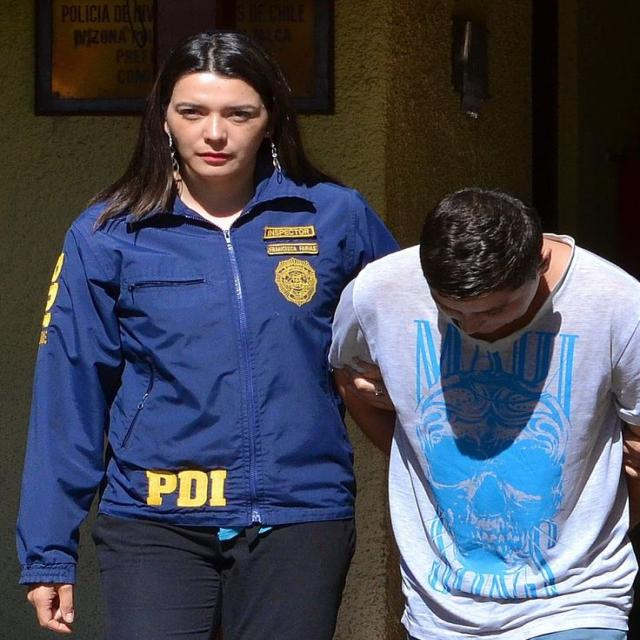9_cabeza_baja: (421, 189, 554, 337)
